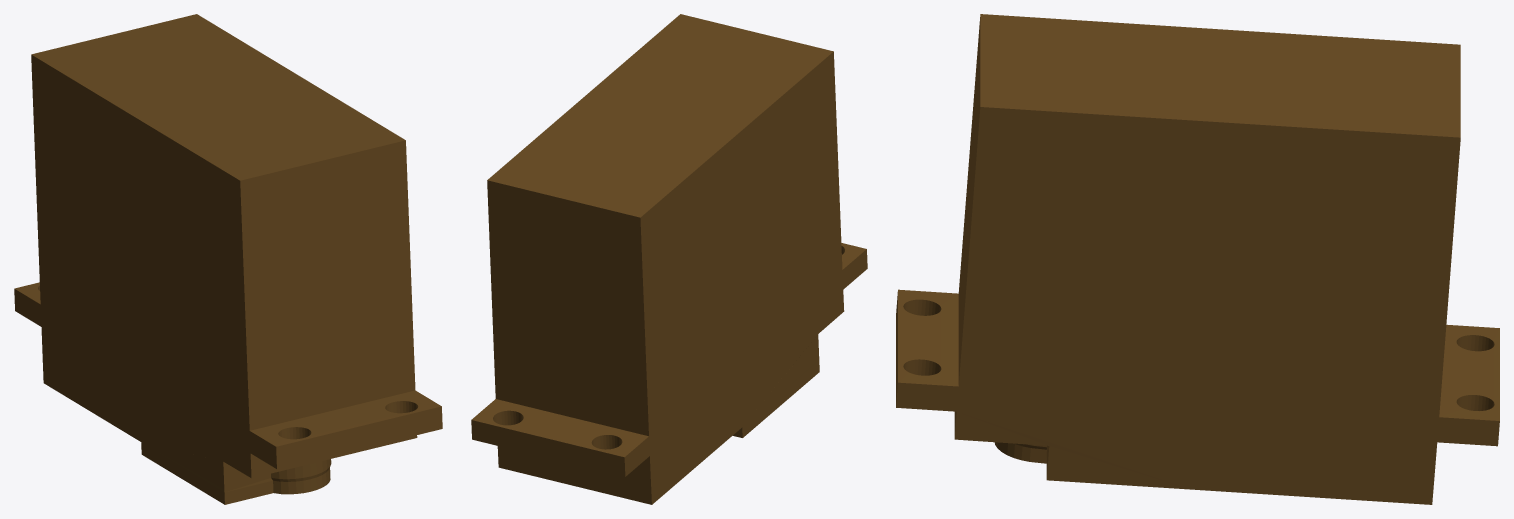
Rendered from left_shoulder_y_link_visual_1.obj.
3 renders of one model, left to right at view 1: azimuth 30°, elevation 25°; view 2: azimuth 150°, elevation 25°; view 3: azimuth 270°, elevation 25°, orthographic. The views are drawn at different scales.
Parts seen in each view (by area): view 1: i01.leftArm.omoplate.full.002_visual.001; view 2: i01.leftArm.omoplate.full.002_visual.001; view 3: i01.leftArm.omoplate.full.002_visual.001.
Part boxes in pixels (x1,y1,x2,y2): i01.leftArm.omoplate.full.002_visual.001: (14,14,442,504); i01.leftArm.omoplate.full.002_visual.001: (471,14,867,504); i01.leftArm.omoplate.full.002_visual.001: (896,14,1499,504).
Size of the model in its own units: 0.2828 by 0.5644 by 0.7761.
